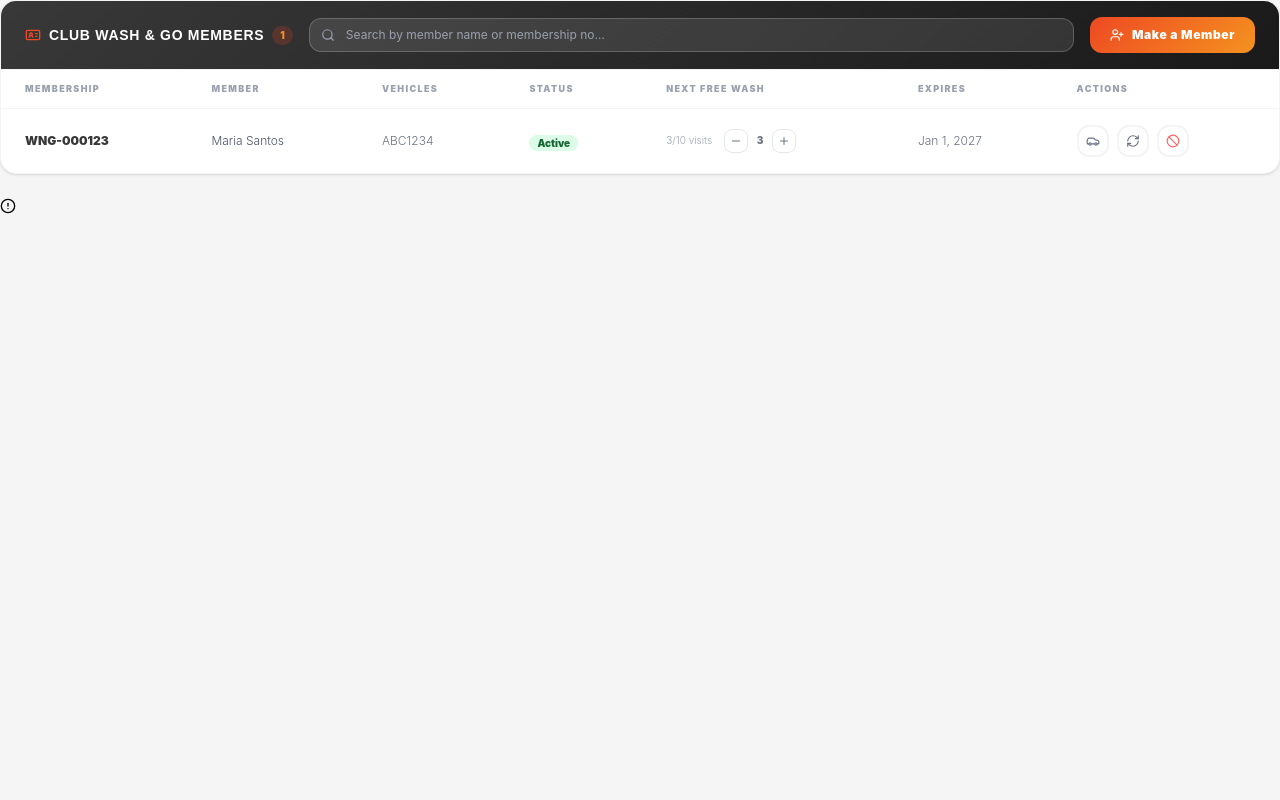
Test: MembershipsPanel (container) › adds a vehicle through the manage-vehicles modal
This screenshot has width=1280, height=800.
Expected: the text "WNG-000123" is shown, x1=1 y1=108 x2=187 y2=172
Click the button titled "Manage vehicles".
click(1093, 140)  # box x1=1077 y1=124 x2=1109 y2=156
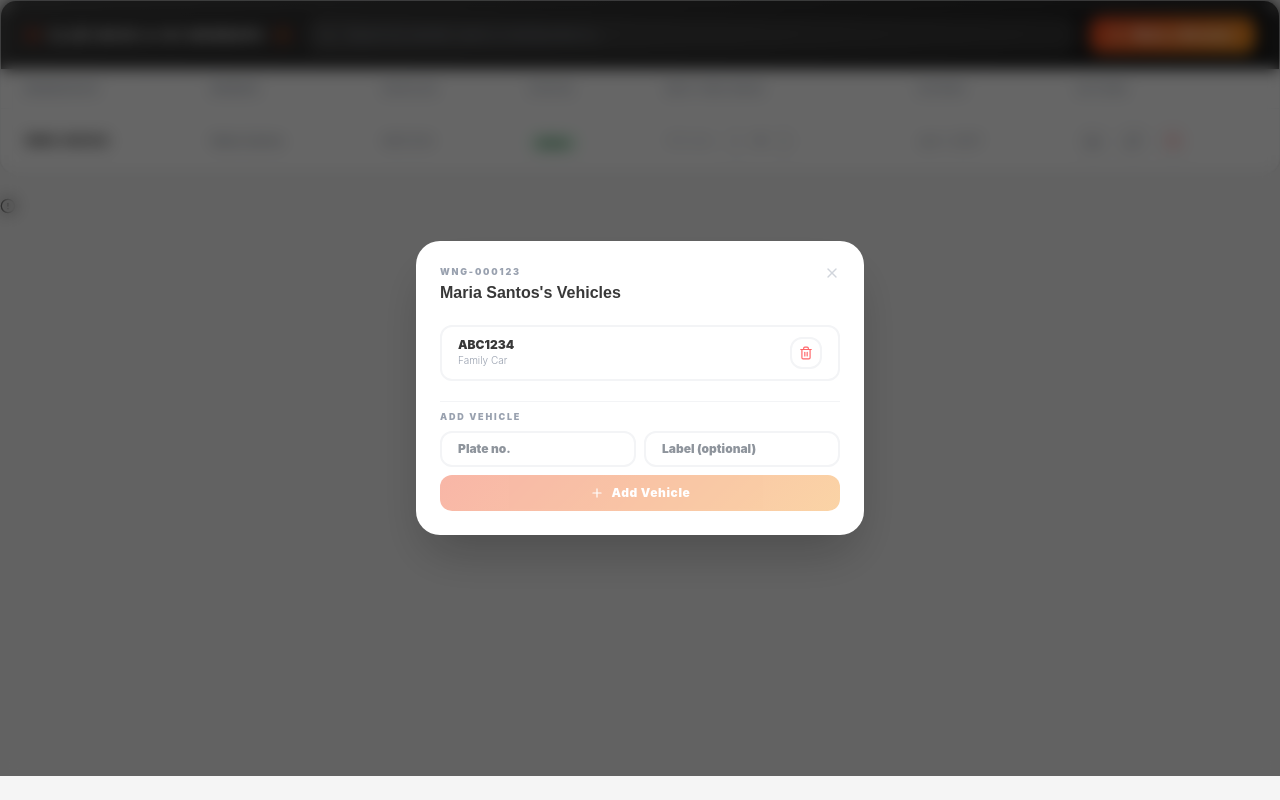
Type "new1234" into the field with placeholder "Plate no.".
click(538, 449); type("new1234")  # box x1=440 y1=431 x2=636 y2=467
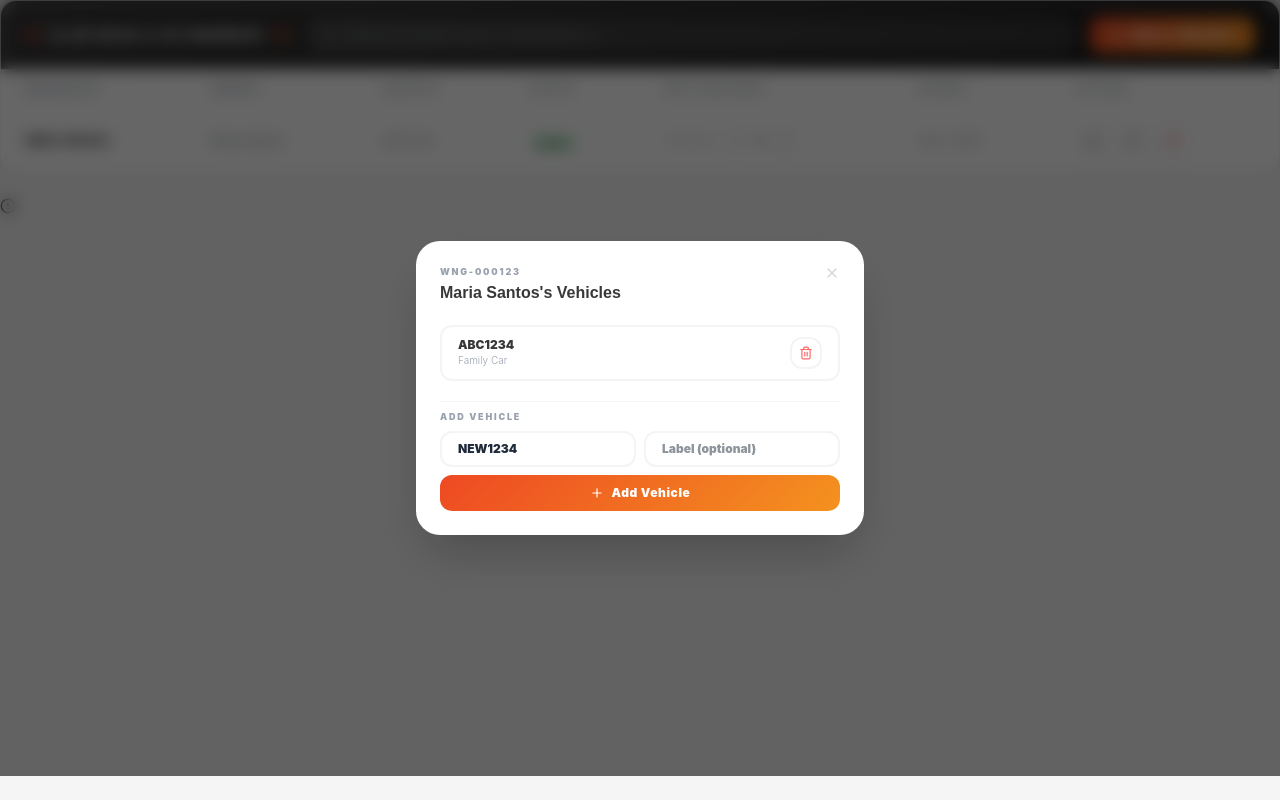
Click the button "Add Vehicle".
click(640, 493)  # box x1=440 y1=475 x2=840 y2=511
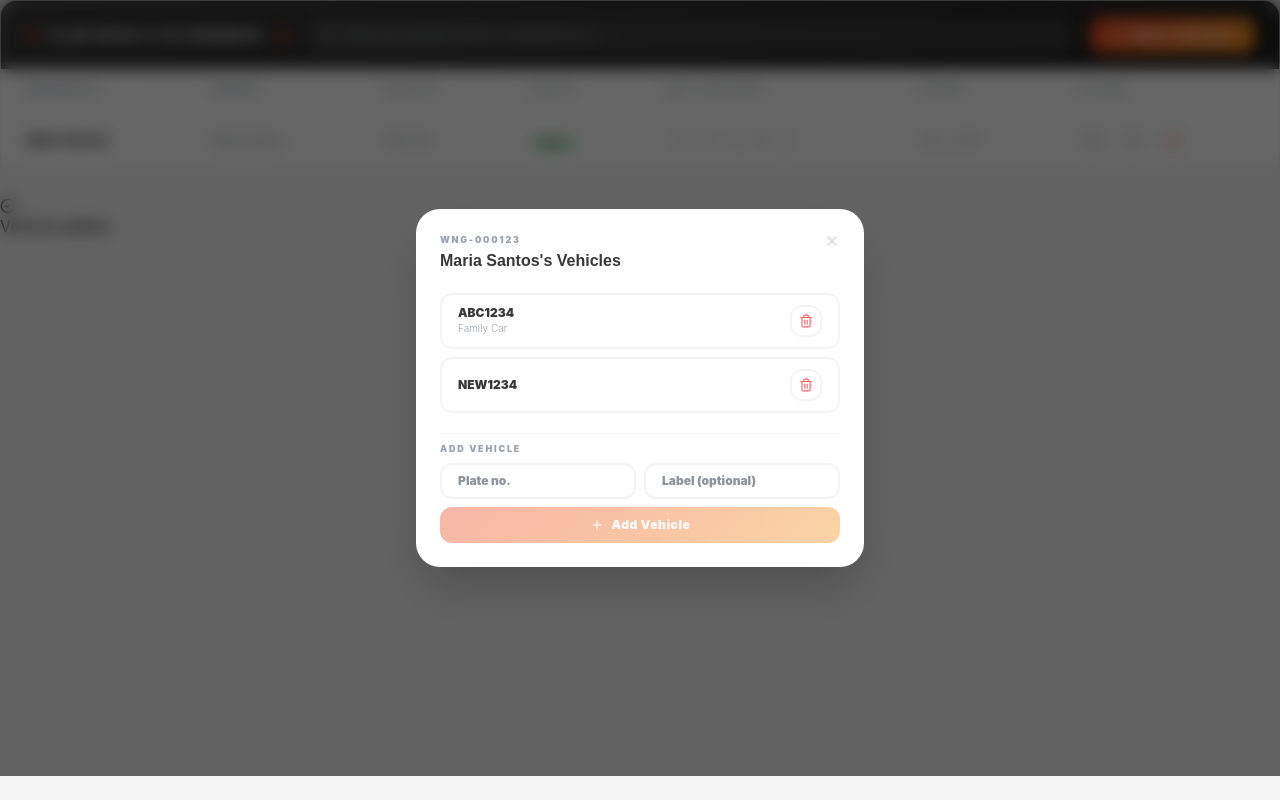
Now the text "NEW1234" is shown, box x1=458 y1=376 x2=517 y2=392
